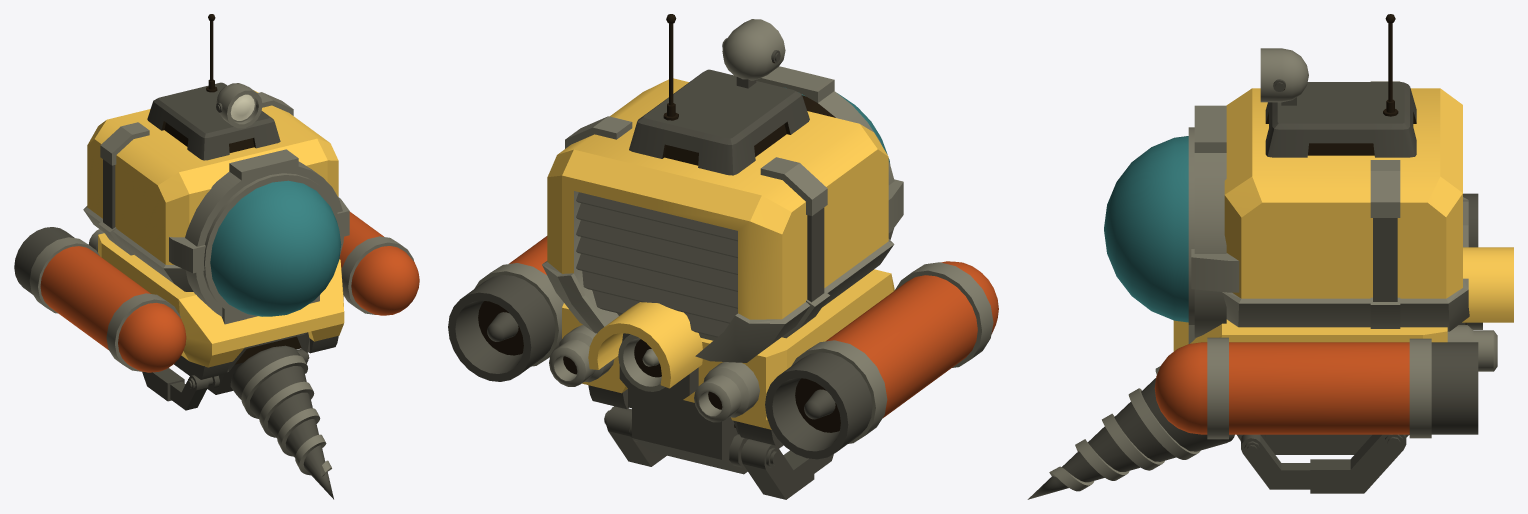
File: Submarine.fbx
3 renders of one model, left to right at view 1: azimuth 30°, elevation 25°; view 2: azimuth 150°, elevation 25°; view 3: azimuth 270°, elevation 25°, orthographic. The views are drawn at different scales.
Visible parts, largest first — view 1: Submarine, SubmarineGlass, SubmarineDrill, SubmarineLight; view 2: Submarine, SubmarineLight; view 3: Submarine, SubmarineGlass, SubmarineDrill, SubmarineLight.
Boxes of the visible parts, x1,y1,x2,y2 form: Submarine: (14,14,419,410); SubmarineGlass: (210,180,341,316); SubmarineDrill: (230,345,333,499); SubmarineLight: (216,83,262,128); Submarine: (448,14,998,499); SubmarineLight: (722,19,785,80); Submarine: (1154,14,1513,493); SubmarineGlass: (1104,136,1188,322); SubmarineDrill: (1027,366,1234,499); SubmarineLight: (1260,48,1308,102).
Bounding box in the file's own units: 185 × 224 × 199.
